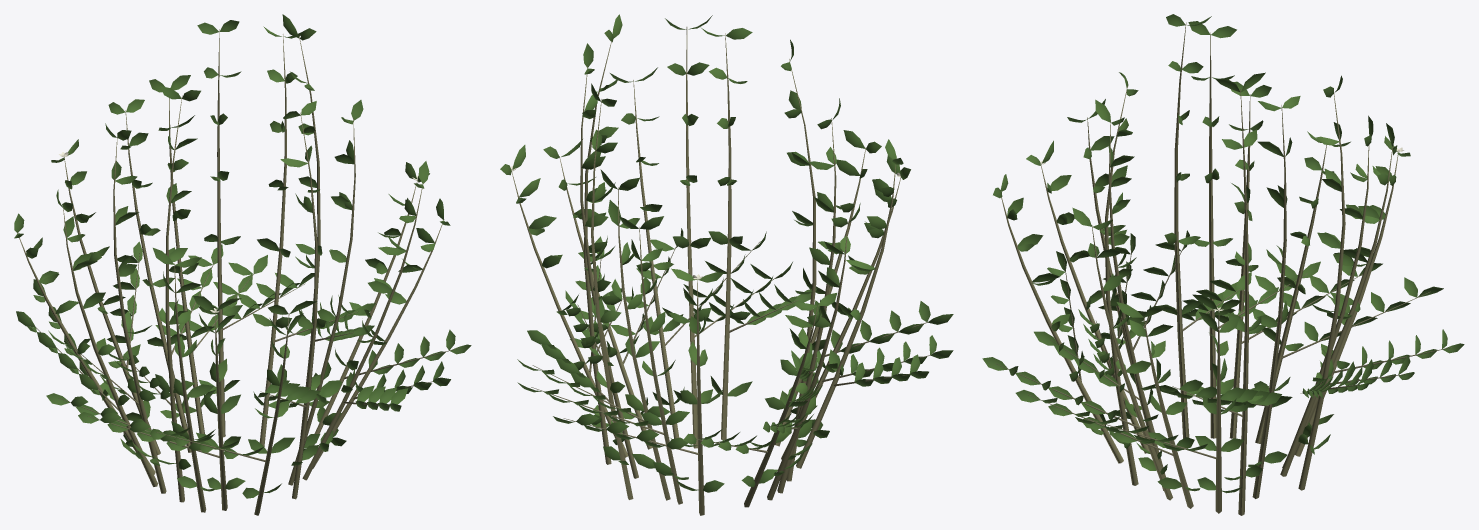
Rendered from myrtus-communis-far.glb.
The picture shows the model from 3 angles, left to right: view 1: azimuth 30°, elevation 25°; view 2: azimuth 150°, elevation 25°; view 3: azimuth 270°, elevation 25°; orthographic projection. The views are drawn at different scales.
Parts seen in each view (by area): view 1: myrtus-communis dense natural leaf mound, myrtus-communis connected low branching; view 2: myrtus-communis dense natural leaf mound, myrtus-communis connected low branching; view 3: myrtus-communis dense natural leaf mound, myrtus-communis connected low branching.
Part boxes in pixels (x1=…): myrtus-communis dense natural leaf mound: x1=14, y1=14, x2=471, y2=498; myrtus-communis connected low branching: x1=17, y1=29, x2=459, y2=515; myrtus-communis dense natural leaf mound: x1=500, y1=14, x2=953, y2=492; myrtus-communis connected low branching: x1=511, y1=27, x2=930, y2=515; myrtus-communis dense natural leaf mound: x1=982, y1=14, x2=1464, y2=493; myrtus-communis connected low branching: x1=995, y1=22, x2=1452, y2=515.
Bounding box in the file's own units: 0.8687 × 0.9025 × 0.8985.
